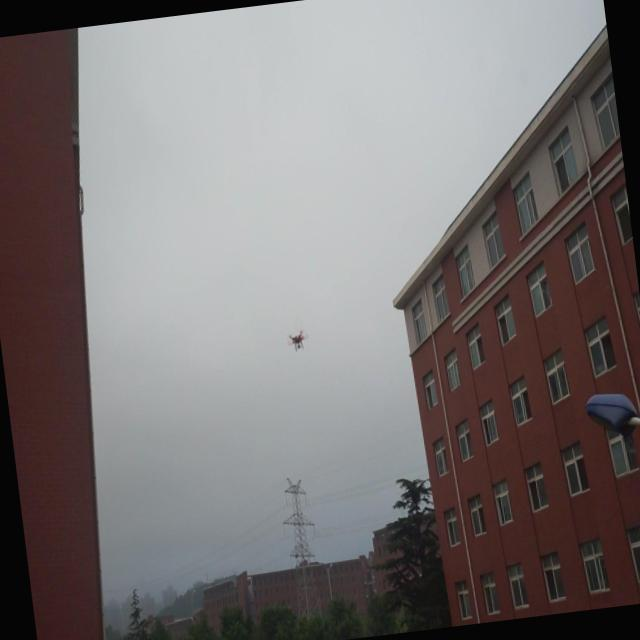drone: (282, 323, 316, 357)
